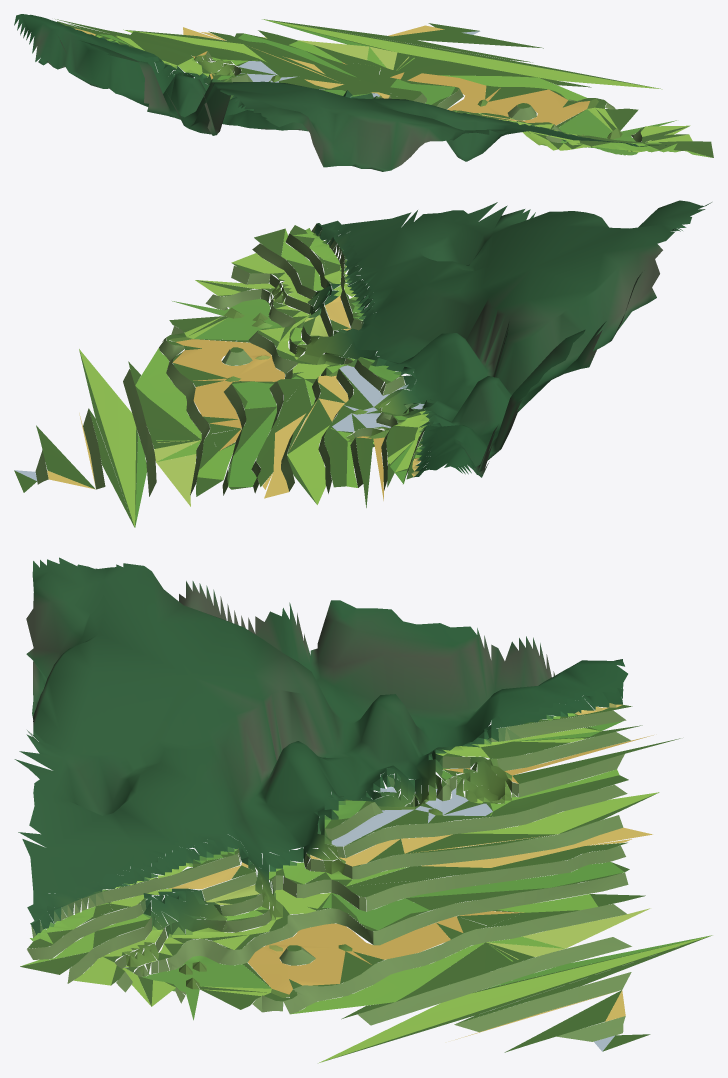
File: payo_land_xm2_y6_lod1.glb
The picture shows the model from 3 angles, top to bottom: view 1: azimuth 30°, elevation 25°; view 2: azimuth 150°, elevation 25°; view 3: azimuth 270°, elevation 25°; orthographic projection. The views are drawn at different scales.
Parts seen in each view (by area): view 1: payo_land_xm2_y6; view 2: payo_land_xm2_y6; view 3: payo_land_xm2_y6.
Part boxes in pixels (x1,y1,x2,y2): payo_land_xm2_y6: (14,14,713,171); payo_land_xm2_y6: (14,200,711,527); payo_land_xm2_y6: (14,557,712,1063).
Bounding box in the file's own units: 301 × 112 × 303.
